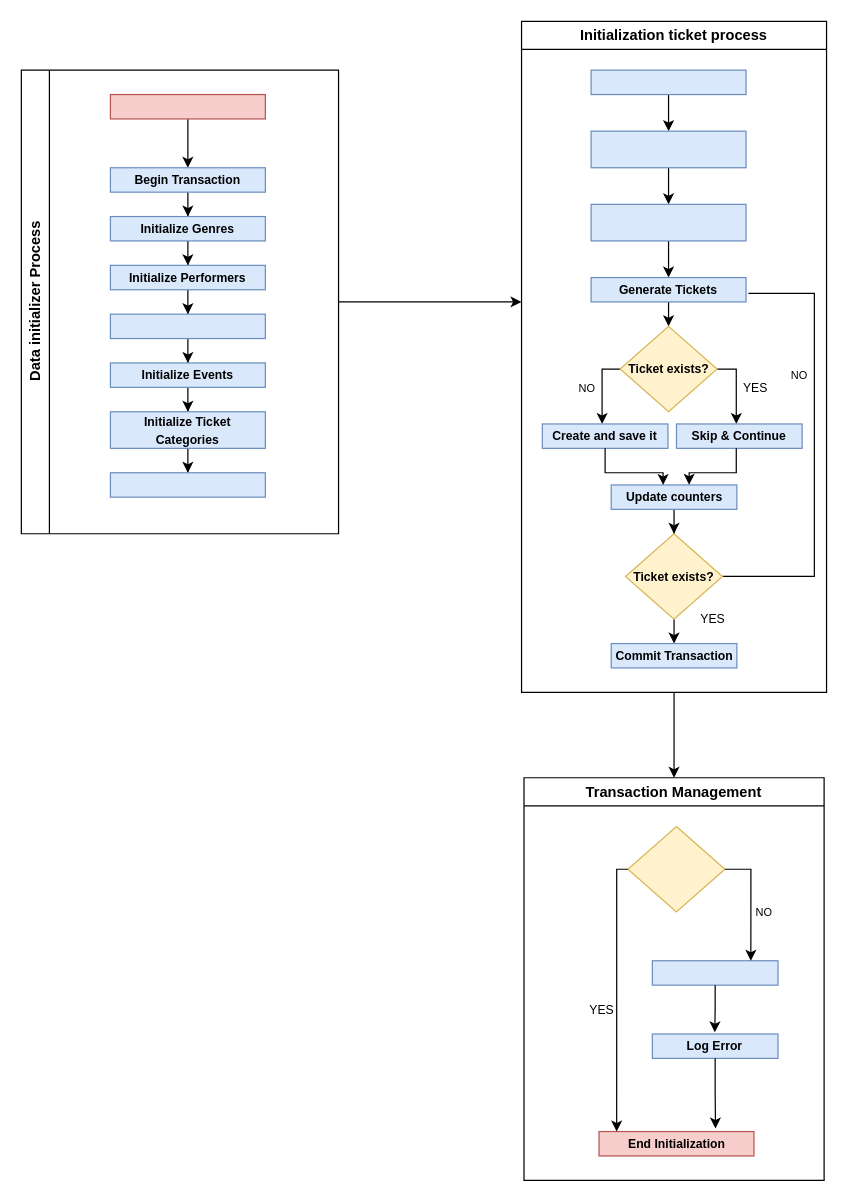
The diagram is 848 pixels wide and 1202 high, and some of its shapes have lost their labels. Here are the shapes that lost their labels. From the top down, the centre of each, then its label:
At [668,82]: "Loop Through Events".
At [187,106]: "Start Data Initialization".
At [668,149]: "Loop Through Ticket Events".
At [668,222]: "Seat row/Seat Counters".
At [187,326]: "Initialize Venues".
At [187,484]: "Initialize Tickets".
At [676,868]: "Success?".
At [714,972]: "Rollback transaction".
